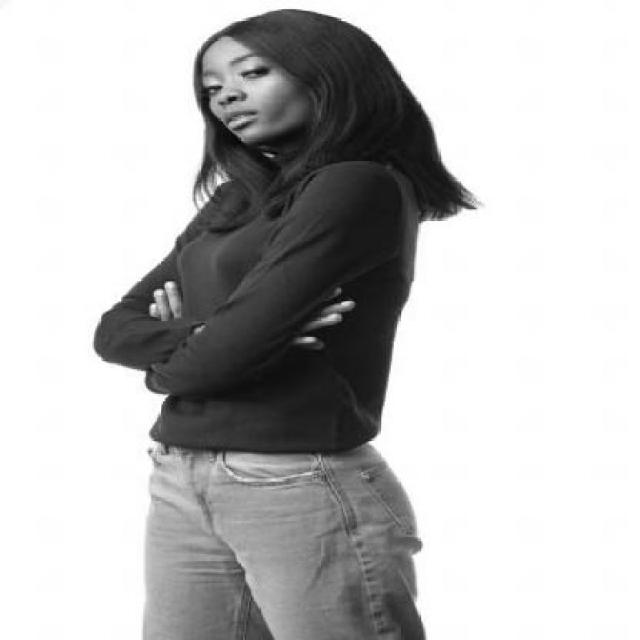angry: (190, 46, 272, 142)
